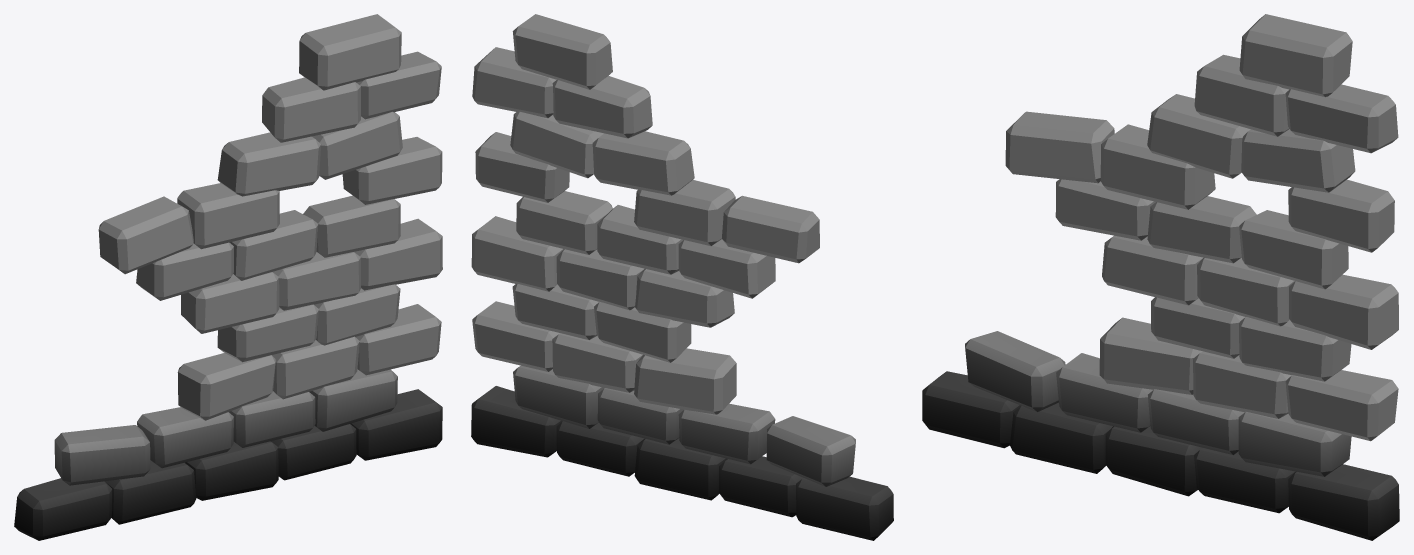
Rendered from BrickWall2x2_01_End_Broken_L.fbx.
The picture shows the model from 3 angles, left to right: view 1: azimuth 30°, elevation 25°; view 2: azimuth 150°, elevation 25°; view 3: azimuth 330°, elevation 25°; orthographic projection. The views are drawn at different scales.
Parts seen in each view (by area): view 1: BrickWall2x2_01_End_Broken_L; view 2: BrickWall2x2_01_End_Broken_L; view 3: BrickWall2x2_01_End_Broken_L.
Part boxes in pixels (x1,y1,x2,y2): BrickWall2x2_01_End_Broken_L: (14,14,442,540); BrickWall2x2_01_End_Broken_L: (471,14,893,540); BrickWall2x2_01_End_Broken_L: (922,14,1399,540).
Size of the model in its own units: 201 by 202 by 27.09.
